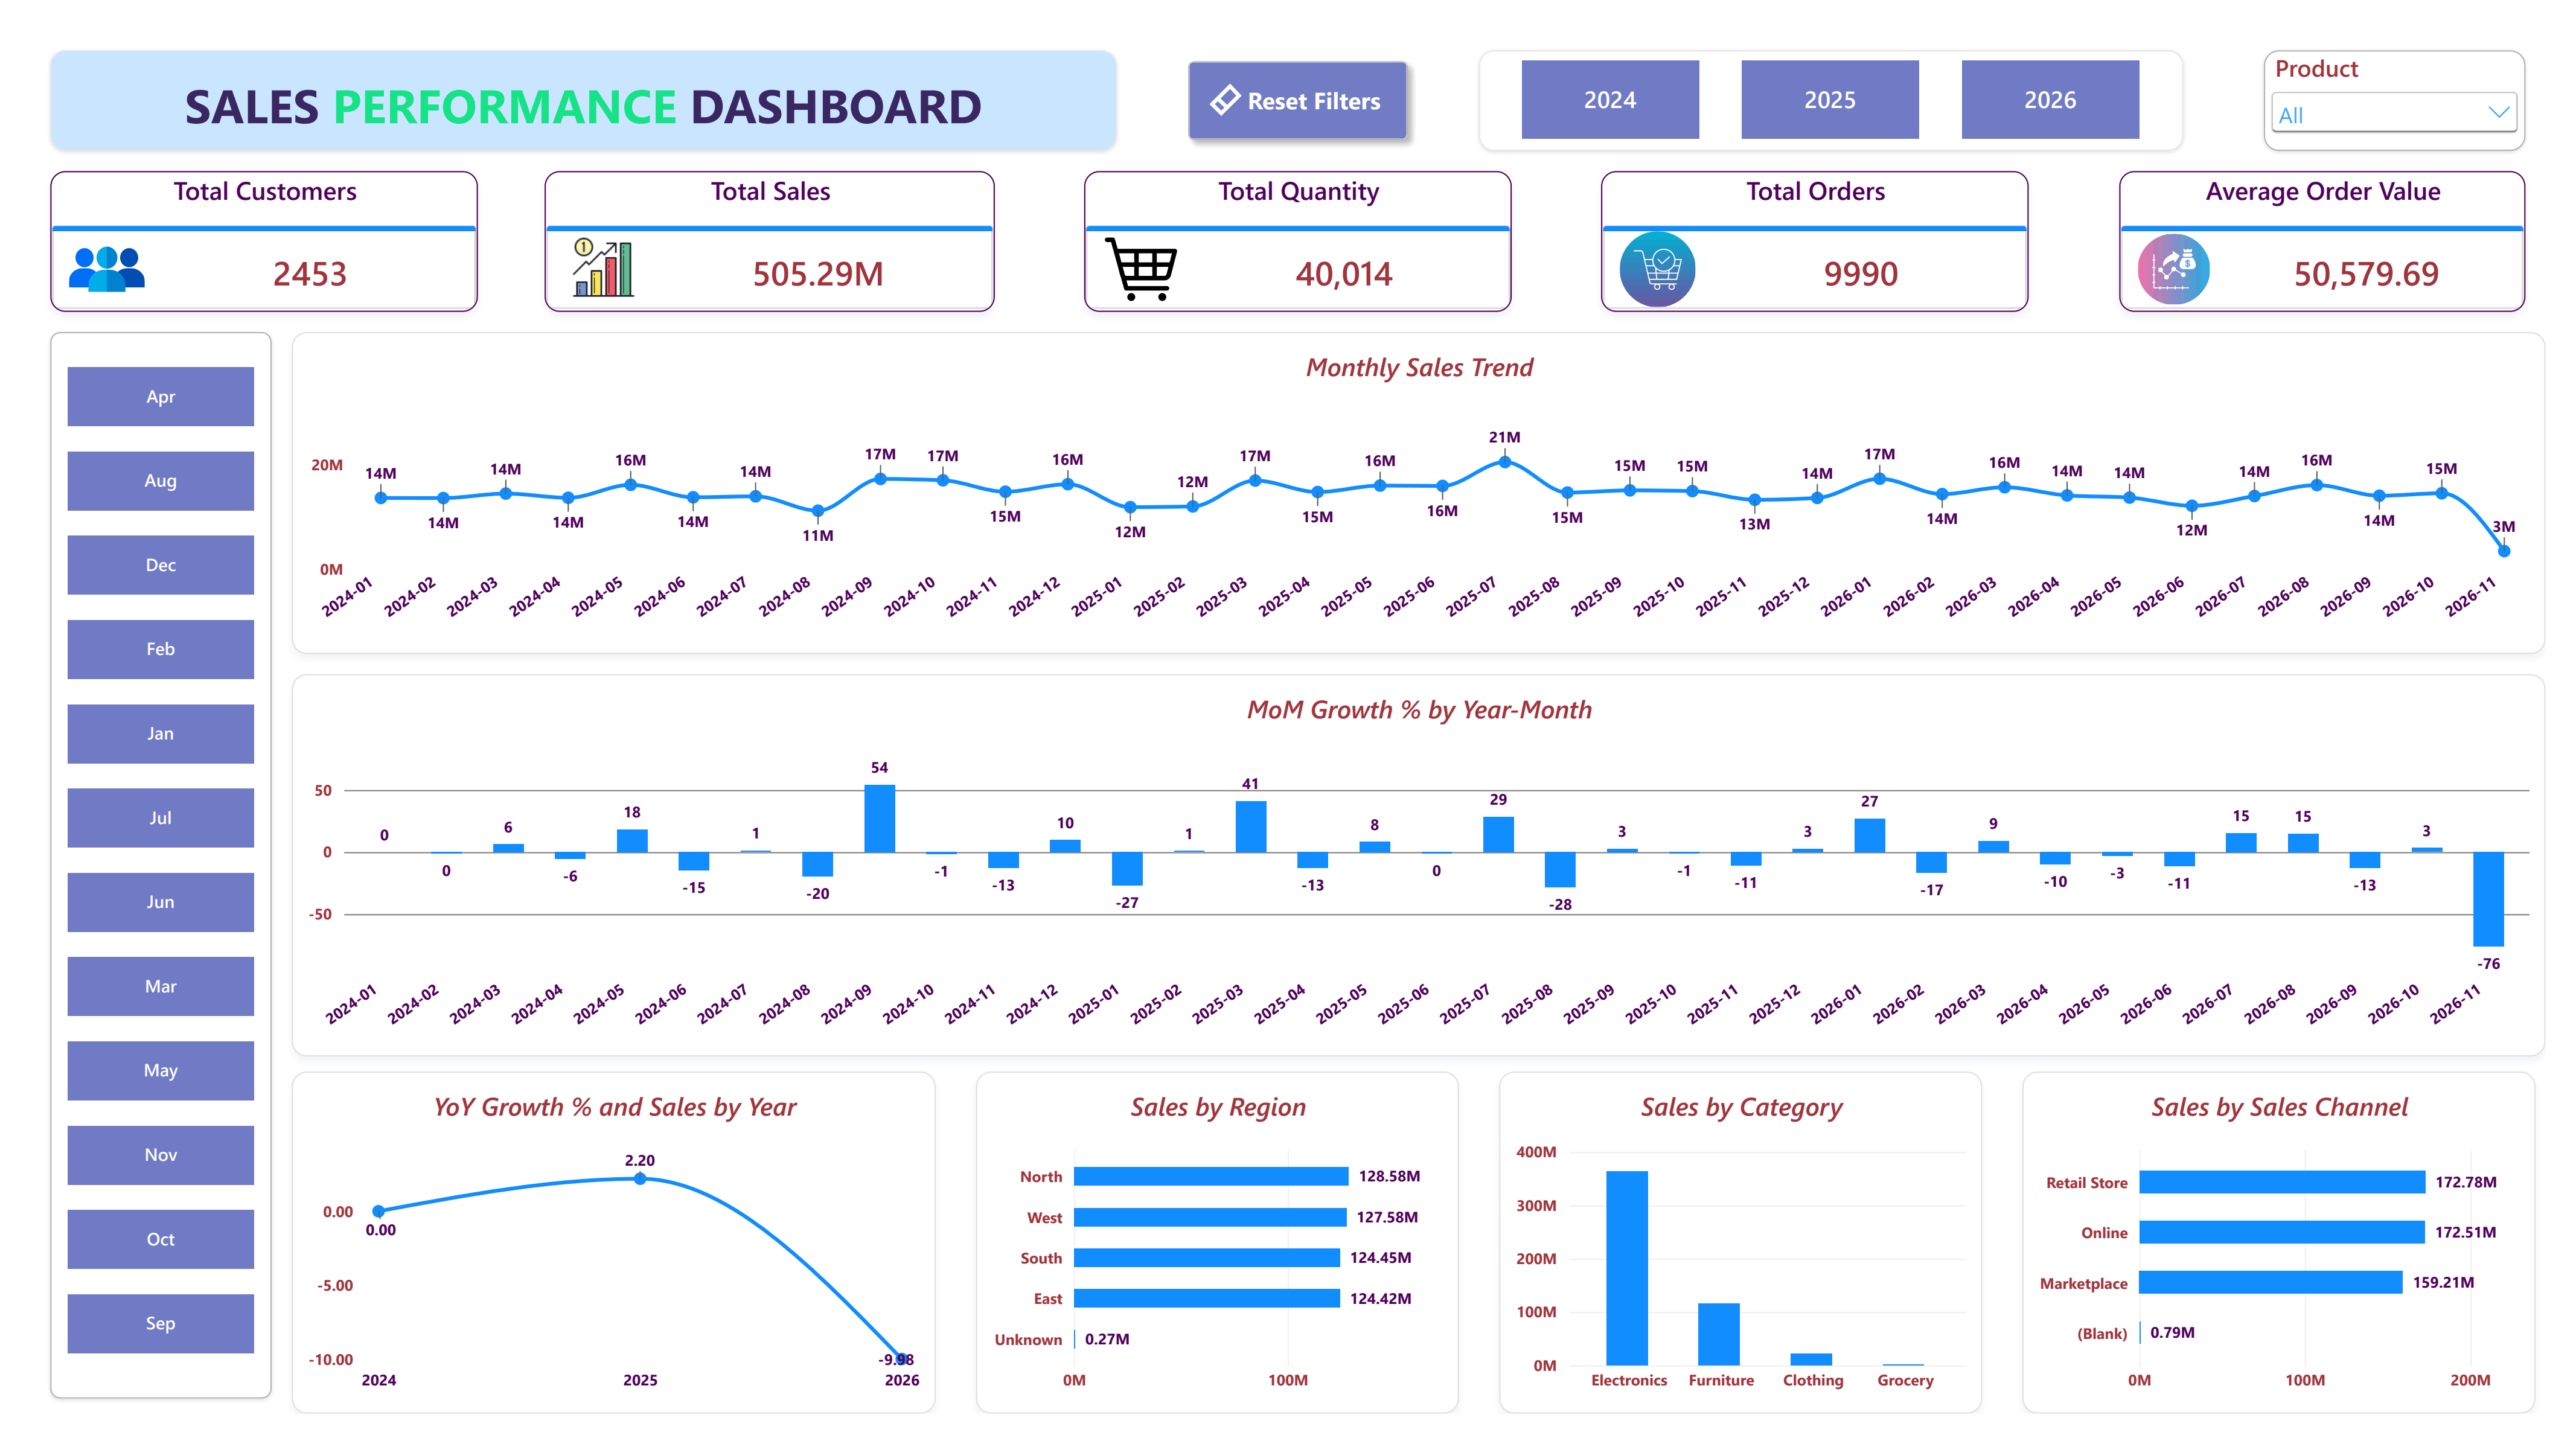

The dashboard page shown, as its layout file describes it:
{"tool":"powerbi","page":{"name":"Overview 1","canvas":[2000,1100],"ordinal":0},"visuals":[{"type":"textbox","box":[16,16,848,80],"z":0,"group":"g2"},{"type":"cardVisual","title":"Total Customers","fields":{"Data":["Measures_Table.Total Customers"]},"box":[16,112,339.6,112],"z":0,"group":"g1"},{"type":"lineChart","title":"Monthly Sales Trend","fields":{"Category":["Date_Table.Year-Month"],"Y":["Measures_Table.Total Sales"]},"box":[208,240,1792,256],"z":0},{"type":"advancedSlicerVisual","fields":{"Values":["Date_Table.Year"]},"box":[1152,16,560,80],"z":1000,"group":"g2"},{"type":"cardVisual","title":"Average Order Value","fields":{"Data":["Measures_Table.Average Order Value"]},"box":[1661.4,112,322.6,112],"z":1000,"group":"g1"},{"type":"clusteredColumnChart","fields":{"Category":["Date_Table.Year-Month"],"Y":["Measures_Table.MoM Growth %"]},"box":[208,512,1792,304],"z":1000},{"type":"slicer","fields":{"Values":["Final_Sales_Data.Product"]},"box":[1776,16,208,80],"z":2000,"group":"g2"},{"type":"cardVisual","title":"Total Sales","fields":{"Data":["Measures_Table.Total Sales"]},"box":[409.3,112,357.5,112],"z":2000,"group":"g1"},{"type":"lineChart","title":"YoY Growth % and Sales by Year","fields":{"Category":["Date_Table.Year"],"Y":["Measures_Table.YoY Growth %"]},"box":[208,828,512,272],"z":2000},{"type":"cardVisual","title":"Total Orders","fields":{"Data":["Measures_Table.Total_Orders"]},"box":[1249.4,112,339.6,112],"z":3000,"group":"g1"},{"type":"barChart","title":"Sales by Region","fields":{"Category":["Final_Sales_Data.Region"],"Y":["Measures_Table.Total Sales"]},"box":[752,828,384,272],"z":3000},{"type":"cardVisual","title":"Total Quantity","fields":{"Data":["Measures_Table.Total Quantity"]},"box":[838.3,112,339.6,112],"z":4000,"group":"g1"},{"type":"clusteredColumnChart","title":"Sales by Category","fields":{"Category":["Final_Sales_Data.Category"],"Y":["Measures_Table.Total Sales"]},"box":[1168,828,384,272],"z":4000},{"type":"clusteredBarChart","title":"Sales by Sales Channel","fields":{"Category":["Final_Sales_Data.Sales_Channel"],"Y":["Measures_Table.Total Sales"]},"box":[1584,828,408,272],"z":5000},{"type":"group","id":"g1","title":"Group 1","box":[16,112,1968,112],"z":6000},{"type":"group","id":"g2","title":"Group 2","box":[16,16,1968,80],"z":7000,"group":"g3"},{"type":"advancedSlicerVisual","title":"Months","fields":{"Values":["Date_Table.Short Month"]},"box":[16,240,176,848],"z":8000},{"type":"actionButton","box":[912,16,192,80],"z":9001,"group":"g3"},{"type":"group","id":"g3","title":"Group 3","box":[16,16,1968,80],"z":9002}]}

Visuals, with their boxes on the page's 2000x1100 design canvas (x1, y1, x2, y2). These are canvas units, not pixel positions in the 2576x1444 screenshot, which may show the page scaled, cropped or inside an application window:
textbox: 16:16:864:96
"Total Customers" cardVisual: 16:112:356:224
"Monthly Sales Trend" lineChart: 208:240:2000:496
advancedSlicerVisual - Date_Table.Year: 1152:16:1712:96
"Average Order Value" cardVisual: 1661:112:1984:224
clusteredColumnChart - Date_Table.Year-Month x Measures_Table.MoM Growth %: 208:512:2000:816
slicer - Final_Sales_Data.Product: 1776:16:1984:96
"Total Sales" cardVisual: 409:112:767:224
"YoY Growth % and Sales by Year" lineChart: 208:828:720:1100
"Total Orders" cardVisual: 1249:112:1589:224
"Sales by Region" barChart: 752:828:1136:1100
"Total Quantity" cardVisual: 838:112:1178:224
"Sales by Category" clusteredColumnChart: 1168:828:1552:1100
"Sales by Sales Channel" clusteredBarChart: 1584:828:1992:1100
"Group 1" group: 16:112:1984:224
"Group 2" group: 16:16:1984:96
"Months" advancedSlicerVisual: 16:240:192:1088
actionButton: 912:16:1104:96
"Group 3" group: 16:16:1984:96
